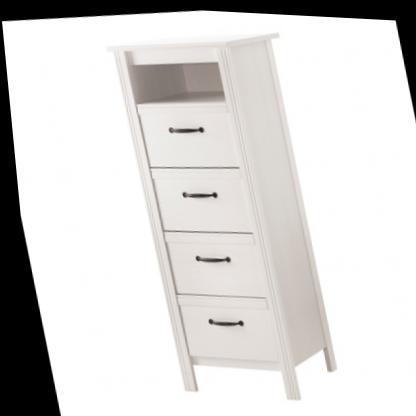Cabinet: (93, 10, 350, 416)
